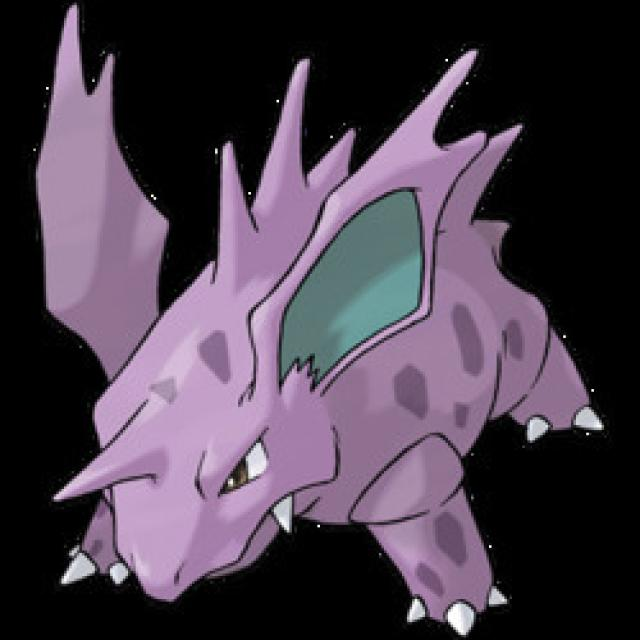Nidorino: (58, 132, 538, 638)
